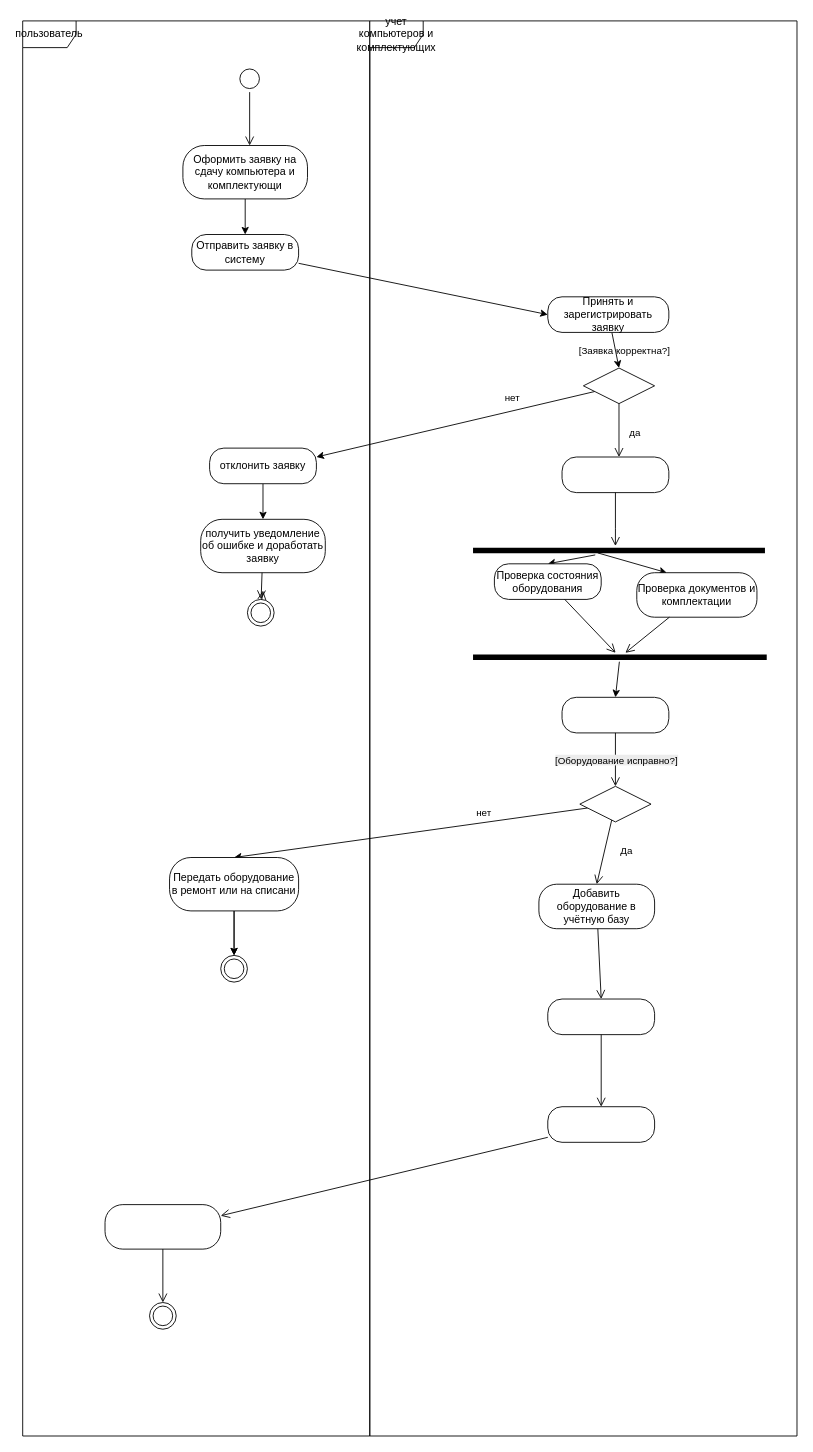
Image size: 813x1452. Some labels were removed from this diagram. Here are the shapes that lost their labels. From the top down, the centre of each, then its label:
At point 615,474: "Принять оборудование на проверку".
At point 615,714: "собрать результаты проверки".
At point 601,1016: "Присвоить инвентарный номер".
At point 601,1124: "Сформировать акт приёма-передачи".
At point 162,1226: "Получить подтверждение о приёме".
